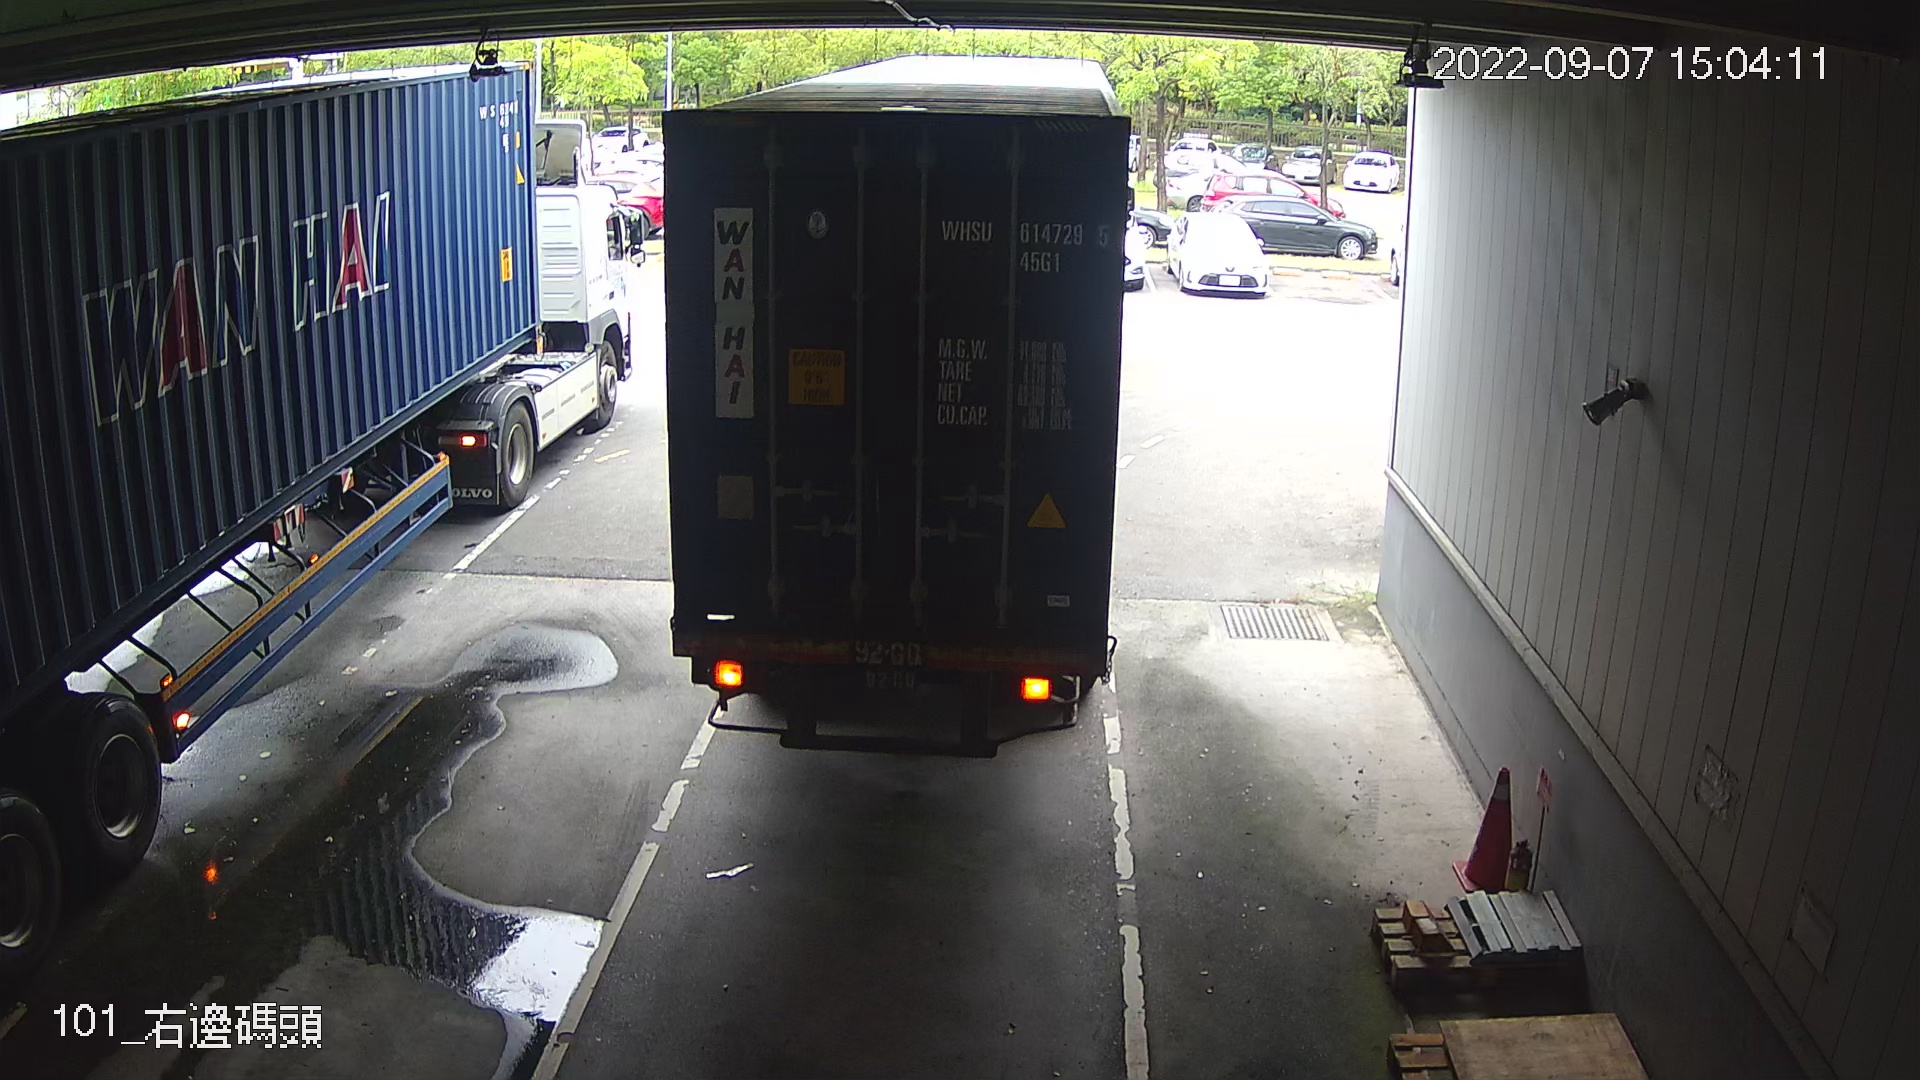container: (934, 204, 1116, 280)
